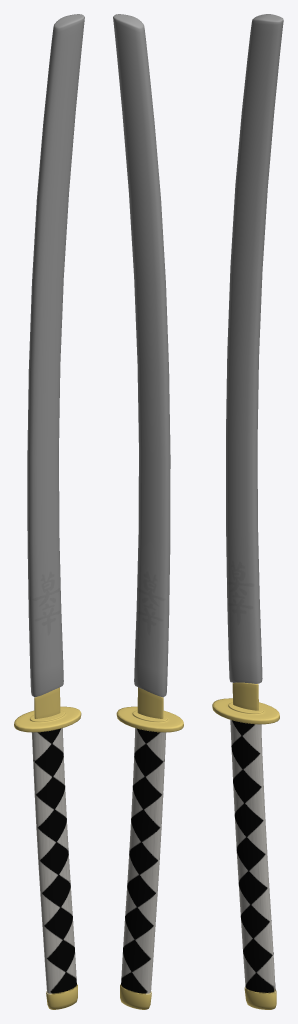
Rendered from katana-sheathed.glb.
The picture shows the model from 3 angles, left to right: view 1: azimuth 30°, elevation 25°; view 2: azimuth 150°, elevation 25°; view 3: azimuth 330°, elevation 25°; orthographic projection.
Parts seen in each view (by area): view 1: Saya, Katana; view 2: Saya, Katana; view 3: Saya, Katana.
Part boxes in pixels (left/top/right/bottom): Saya: left=27, top=14, right=84, bottom=696; Katana: left=14, top=687, right=81, bottom=1009; Saya: left=113, top=14, right=170, bottom=696; Katana: left=116, top=687, right=183, bottom=1009; Saya: left=226, top=14, right=283, bottom=683; Katana: left=212, top=682, right=279, bottom=1009.
Bounding box in the file's own units: 0.3481 × 4.83 × 0.1893.
1 material, 1 textured.
